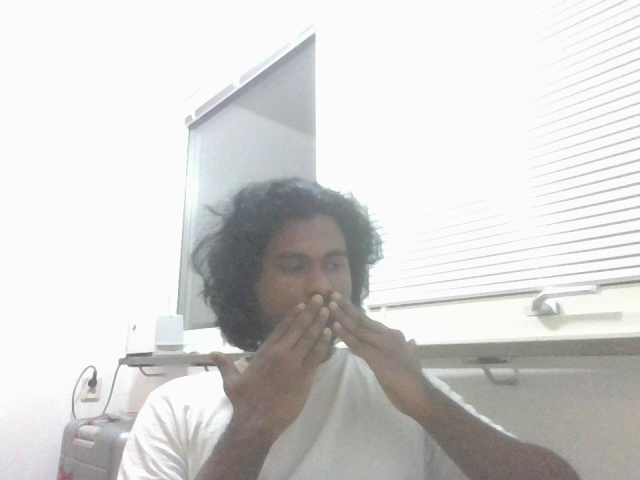Thanks: (209, 292, 450, 419)
